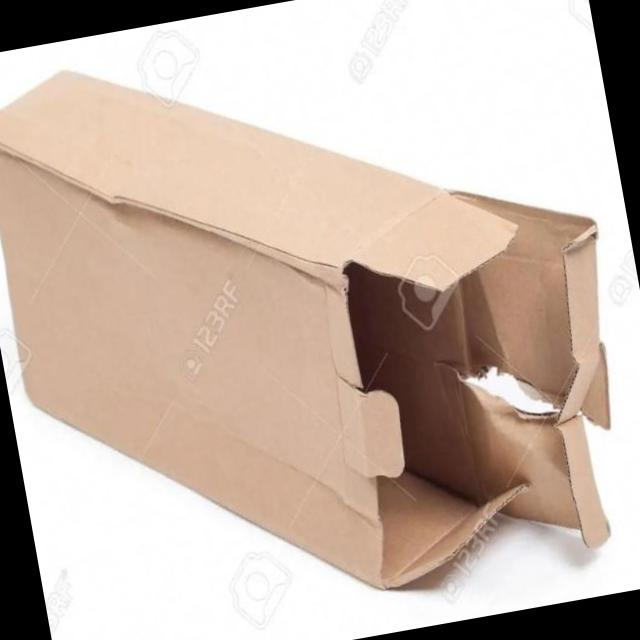box: (1, 68, 617, 593)
opened: (341, 187, 616, 593)
tear: (433, 348, 593, 433)
